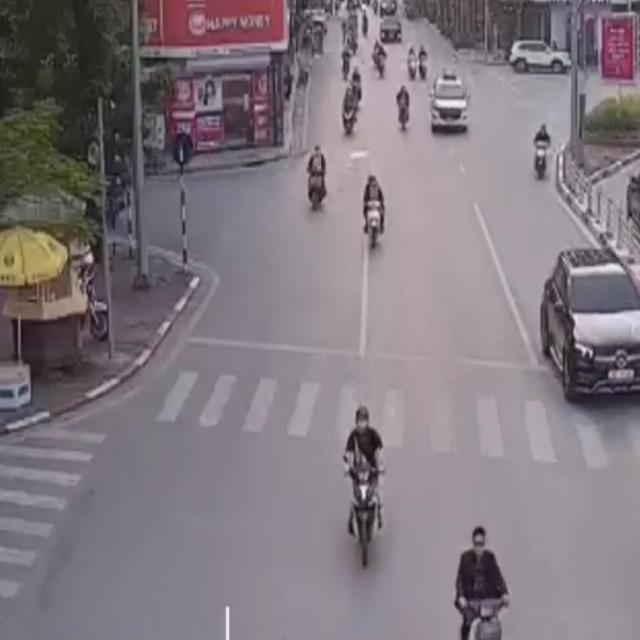car: (535, 244, 640, 414), (429, 73, 470, 135)
motorbike: (343, 404, 389, 568), (454, 521, 509, 640), (360, 167, 389, 251), (304, 142, 328, 218), (530, 120, 554, 180), (393, 81, 412, 133), (340, 85, 359, 137)
